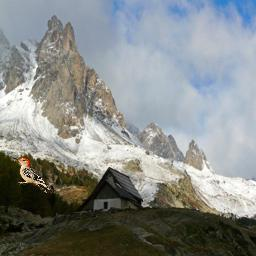Woodpecker: (14, 158, 55, 195)
